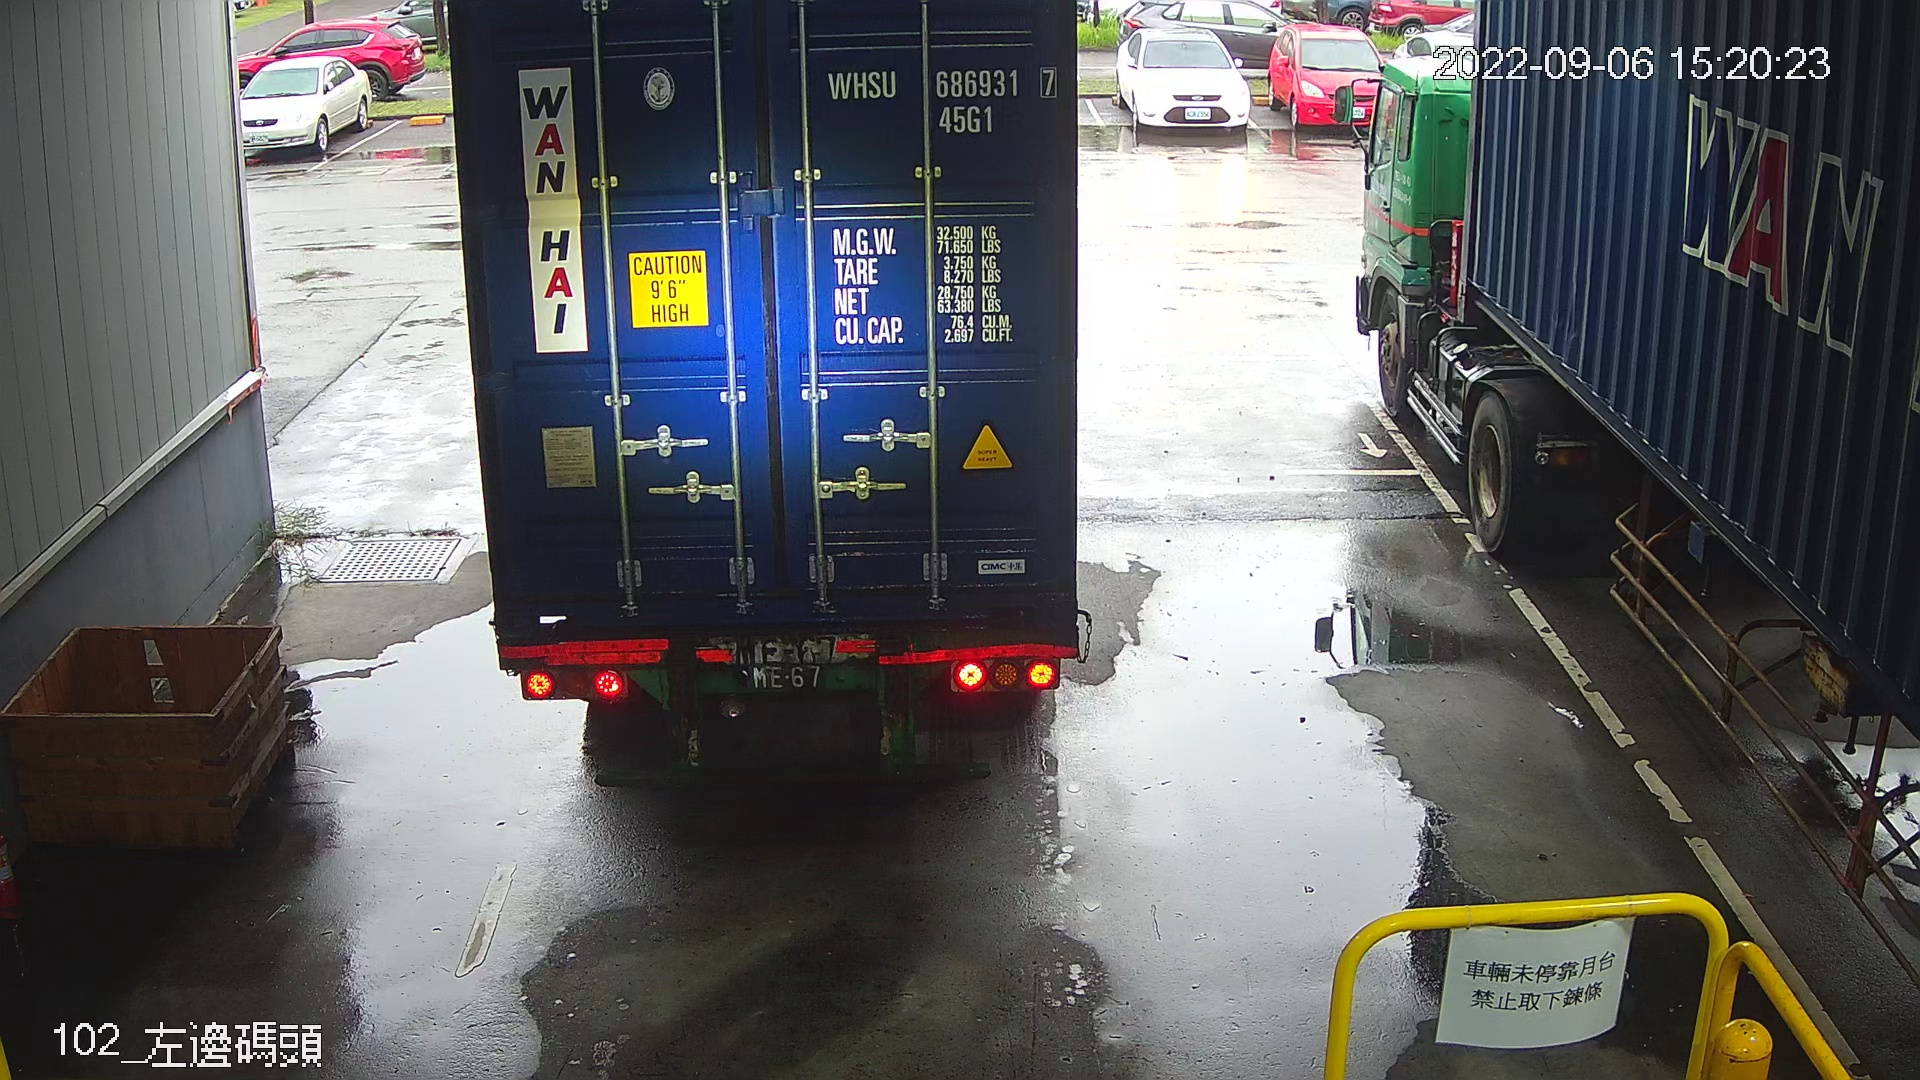container: (816, 57, 1065, 142)
